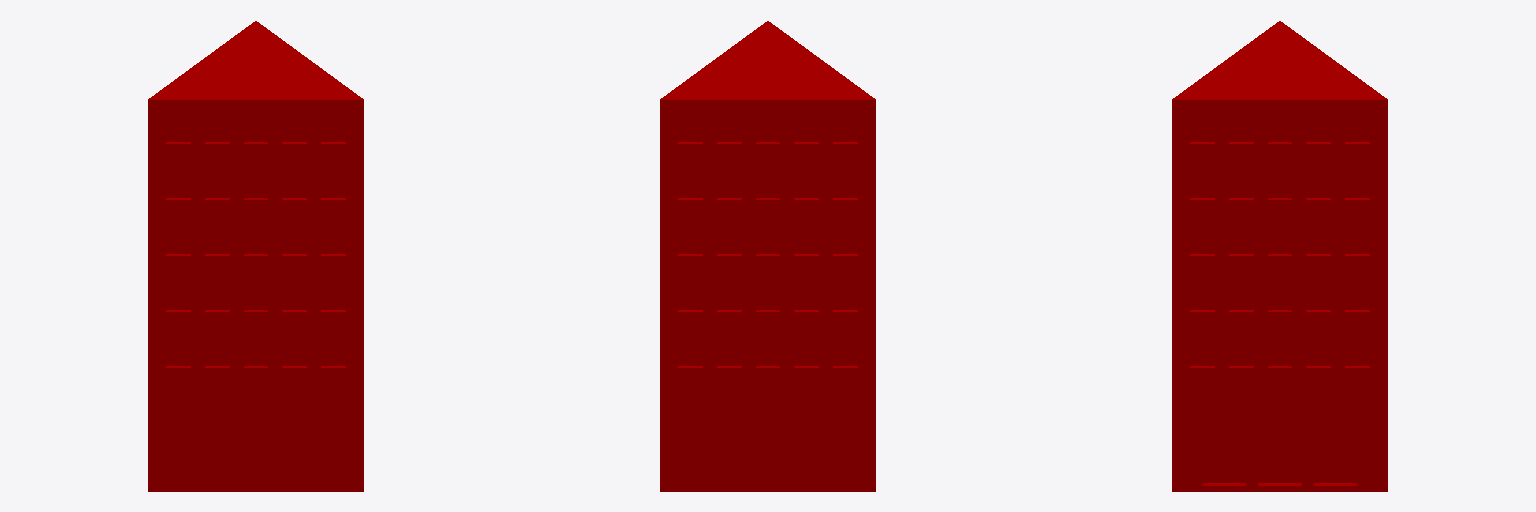
The robot description file, URDF, robot "cube.urdf":
<?xml version="1.0" ?>
<robot name="cube.urdf">
    <link name="legobrick">
        <contact>
            <lateral_friction value="1.0"/>
            <rolling_friction value="0.0"/>
            <contact_cfm value="0.0"/>
            <contact_erp value="1.0"/>
        </contact>
        <inertial>
            <origin rpy="0 0 0" xyz="0.0 0.0 0.0"/>
            <mass value="0.1"/>
            <inertia ixx="1" ixy="0" ixz="0" iyy="1" iyz="0" izz="1"/>
        </inertial>
        <visual>
            <origin rpy="1.570796 0 0" xyz="-0.001152925257731959 0.014222730670103094 -0.006989078608247398"/>
            <geometry>
                <mesh filename="Building_Triangle.obj" scale="0.001 0.001 0.001"/>
            </geometry>
            <material name="yellow">
                <color rgba="0.7333 0 0 1"/>
            </material>
        </visual>
        <collision>
            <origin rpy="1.570796 0 0" xyz="-0.001152925257731959 0.014222730670103094 -0.006989078608247398"/>
            <geometry>
                <mesh filename="Building_Triangle.obj" scale="0.001 0.001 0.001"/>
            </geometry>
        </collision>
    </link>
</robot>

--- What the picture shows (computed from the rendered views, not written in the file) ---
3 views of the same robot in one strip: view 1: azimuth 30°, elevation 25°; view 2: azimuth 150°, elevation 25°; view 3: azimuth 270°, elevation 25° (orthographic).
Robot: cube.urdf — 1 links, 0 joints (none); root link legobrick; default pose: every joint at zero.
Visible links, largest first — view 1: legobrick; view 2: legobrick; view 3: legobrick.
Link boxes in pixels (bbox=[...]): legobrick: bbox=[148, 21, 363, 491]; legobrick: bbox=[660, 21, 875, 491]; legobrick: bbox=[1172, 21, 1387, 491].
Size in the robot's own frame: 0.0303 by 0.035 by 0.07 metres.
Meshes: 1 distinct files referenced, 1 mesh visuals loaded (1 OBJ).